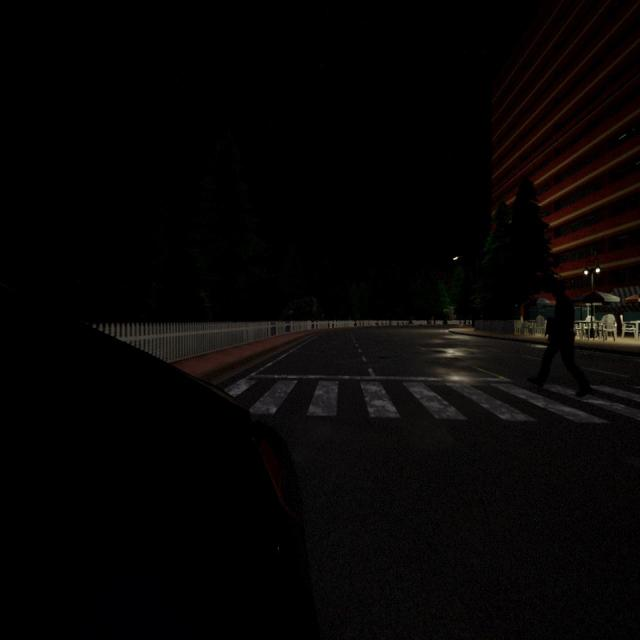Pedestrian: (528, 279, 591, 396)
Vehicle: (0, 289, 318, 639)
